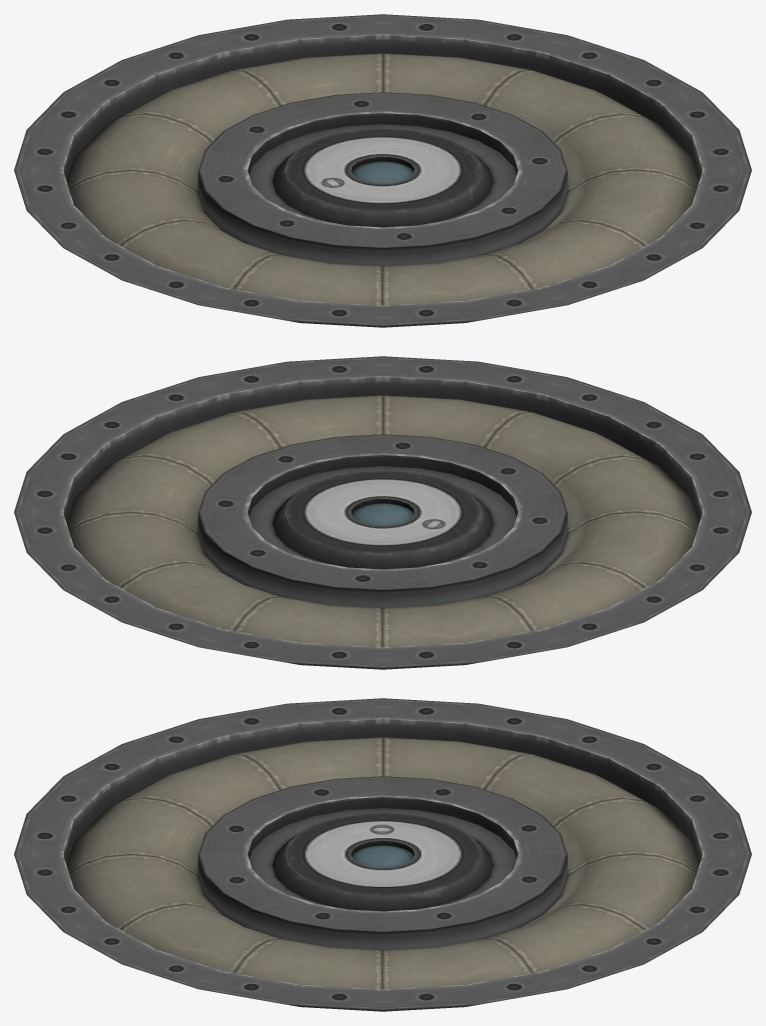
Rendered from end_crew_s1p5_2.obj.
3 renders of one model, top to bottom at view 1: azimuth 30°, elevation 25°; view 2: azimuth 150°, elevation 25°; view 3: azimuth 270°, elevation 25°, orthographic.
Visible parts, largest first — view 1: end; view 2: end; view 3: end.
Boxes of the visible parts, x1,y1,x2,y2 form: end: (14, 14, 751, 327); end: (14, 356, 751, 669); end: (14, 698, 751, 1011).
Bounding box in the file's own units: 1.88 × 0.0625 × 1.88.
